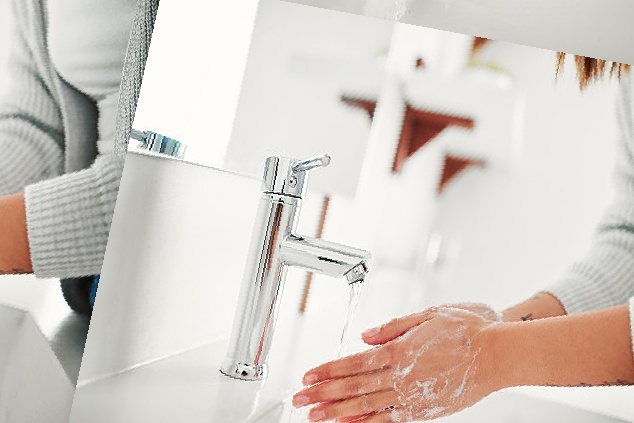washing hand: (151, 45, 574, 422)
